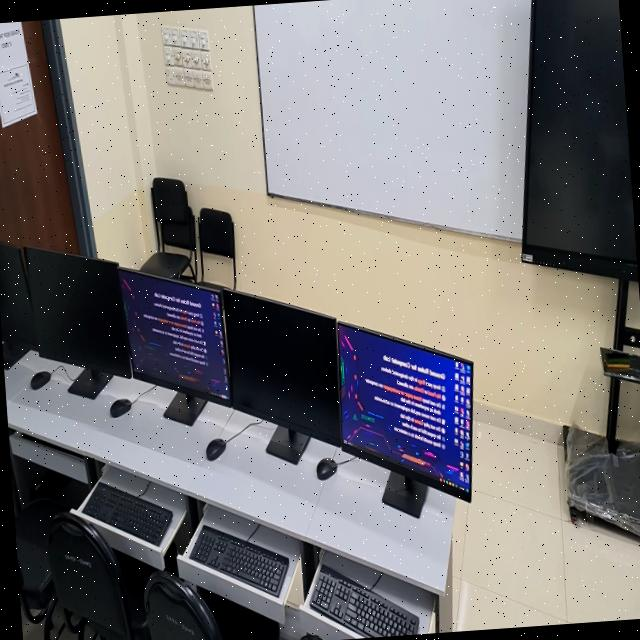Chair: (45, 504, 117, 640), (138, 557, 205, 640), (20, 506, 46, 632)
Digital board: (501, 0, 640, 544)
Keyboard: (182, 501, 292, 618), (313, 554, 419, 640), (86, 469, 170, 548)
Monitor: (330, 317, 482, 503), (115, 265, 223, 410), (30, 226, 120, 390), (219, 296, 338, 415), (0, 238, 30, 368)
Mouse: (100, 382, 140, 425), (308, 447, 341, 483), (31, 361, 54, 394), (204, 431, 230, 456)
